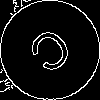C: (25, 25, 82, 83)
